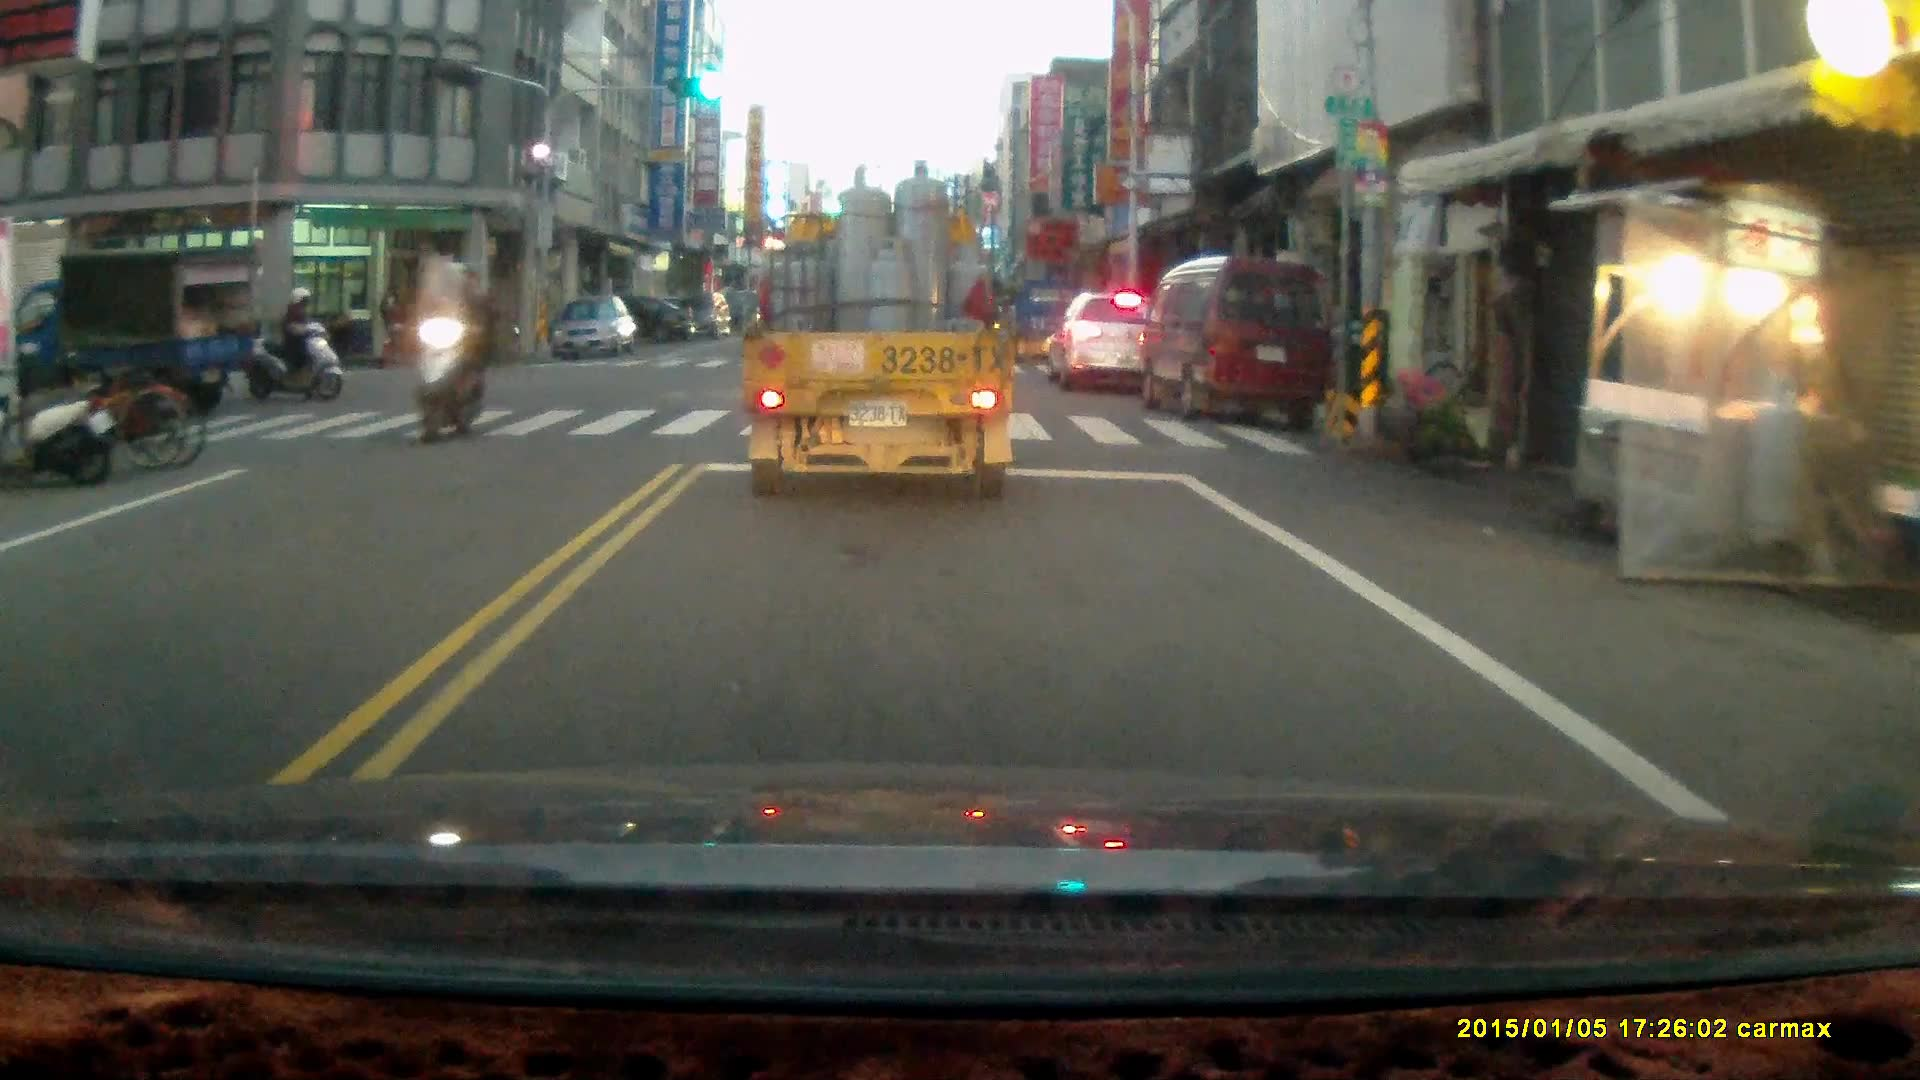pedestrian: (375, 283, 408, 360)
rider: (407, 256, 495, 439), (243, 283, 343, 401)
vehicle: (744, 168, 1018, 507), (15, 247, 248, 421), (1137, 259, 1336, 427), (1043, 290, 1168, 397), (573, 299, 695, 357), (550, 295, 639, 359), (646, 290, 728, 338)
